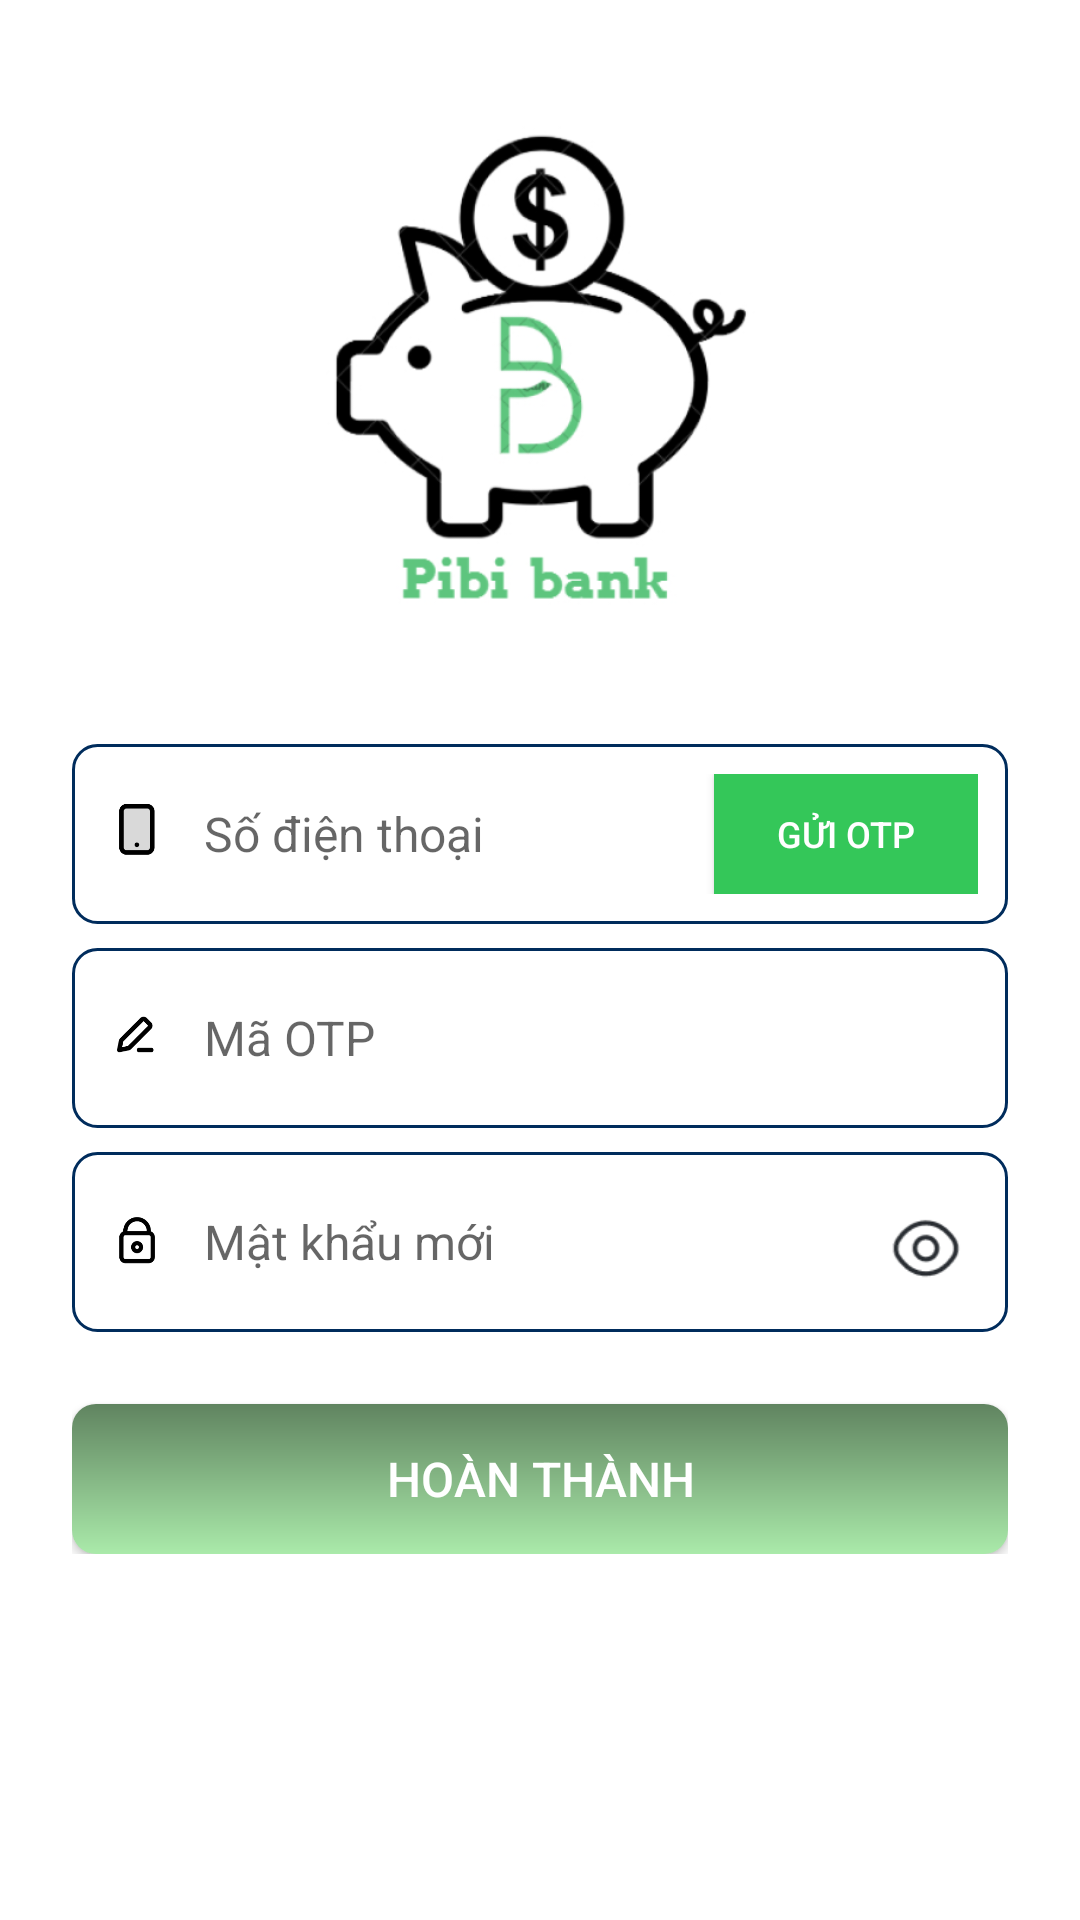

Icons on this 1080 x 1920 Android screen, each with its box as [x1=x1, y1=y1, x2=x2, y2=y2]:
edit: [x1=117, y1=1016, x2=154, y2=1053]
Hiện/ẩn mật khẩu: [x1=893, y1=1220, x2=959, y2=1277]
lock: [x1=119, y1=1217, x2=155, y2=1264]
phone: [x1=119, y1=804, x2=155, y2=855]
